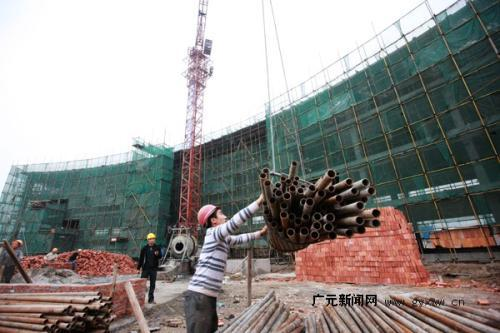helmet: (192, 199, 230, 234), (145, 232, 158, 248)
